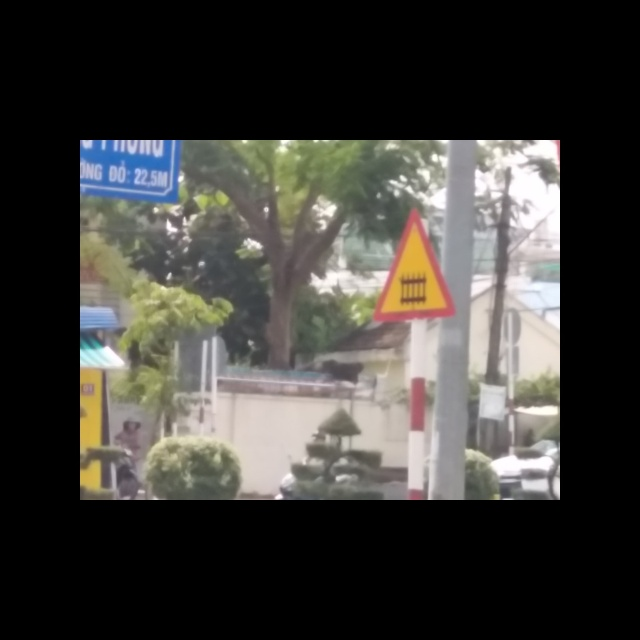Giao nhau với đường sắt có rào chắn: (369, 207, 459, 322)
